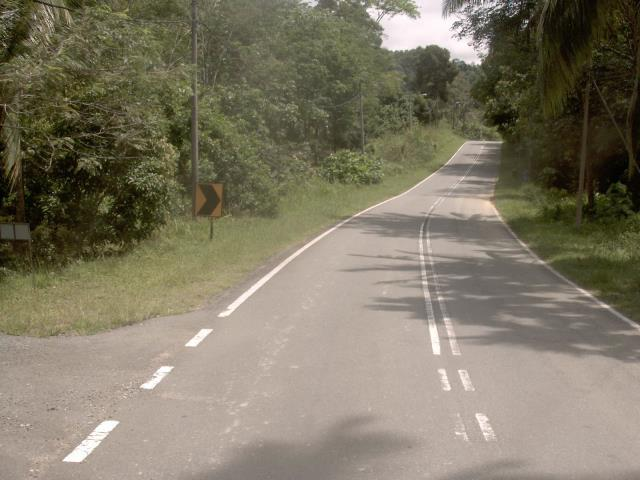traffic_sign: (184, 173, 234, 227)
